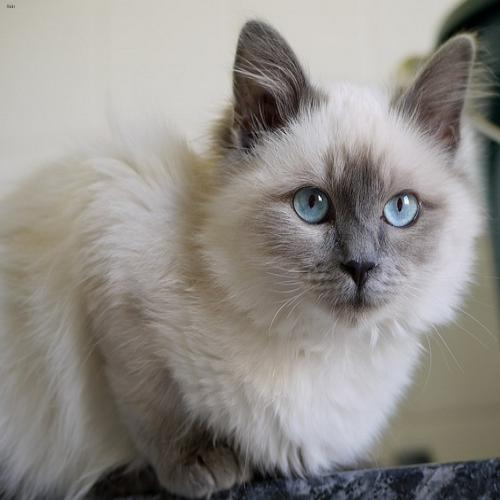ragdoll: (207, 15, 487, 341)
